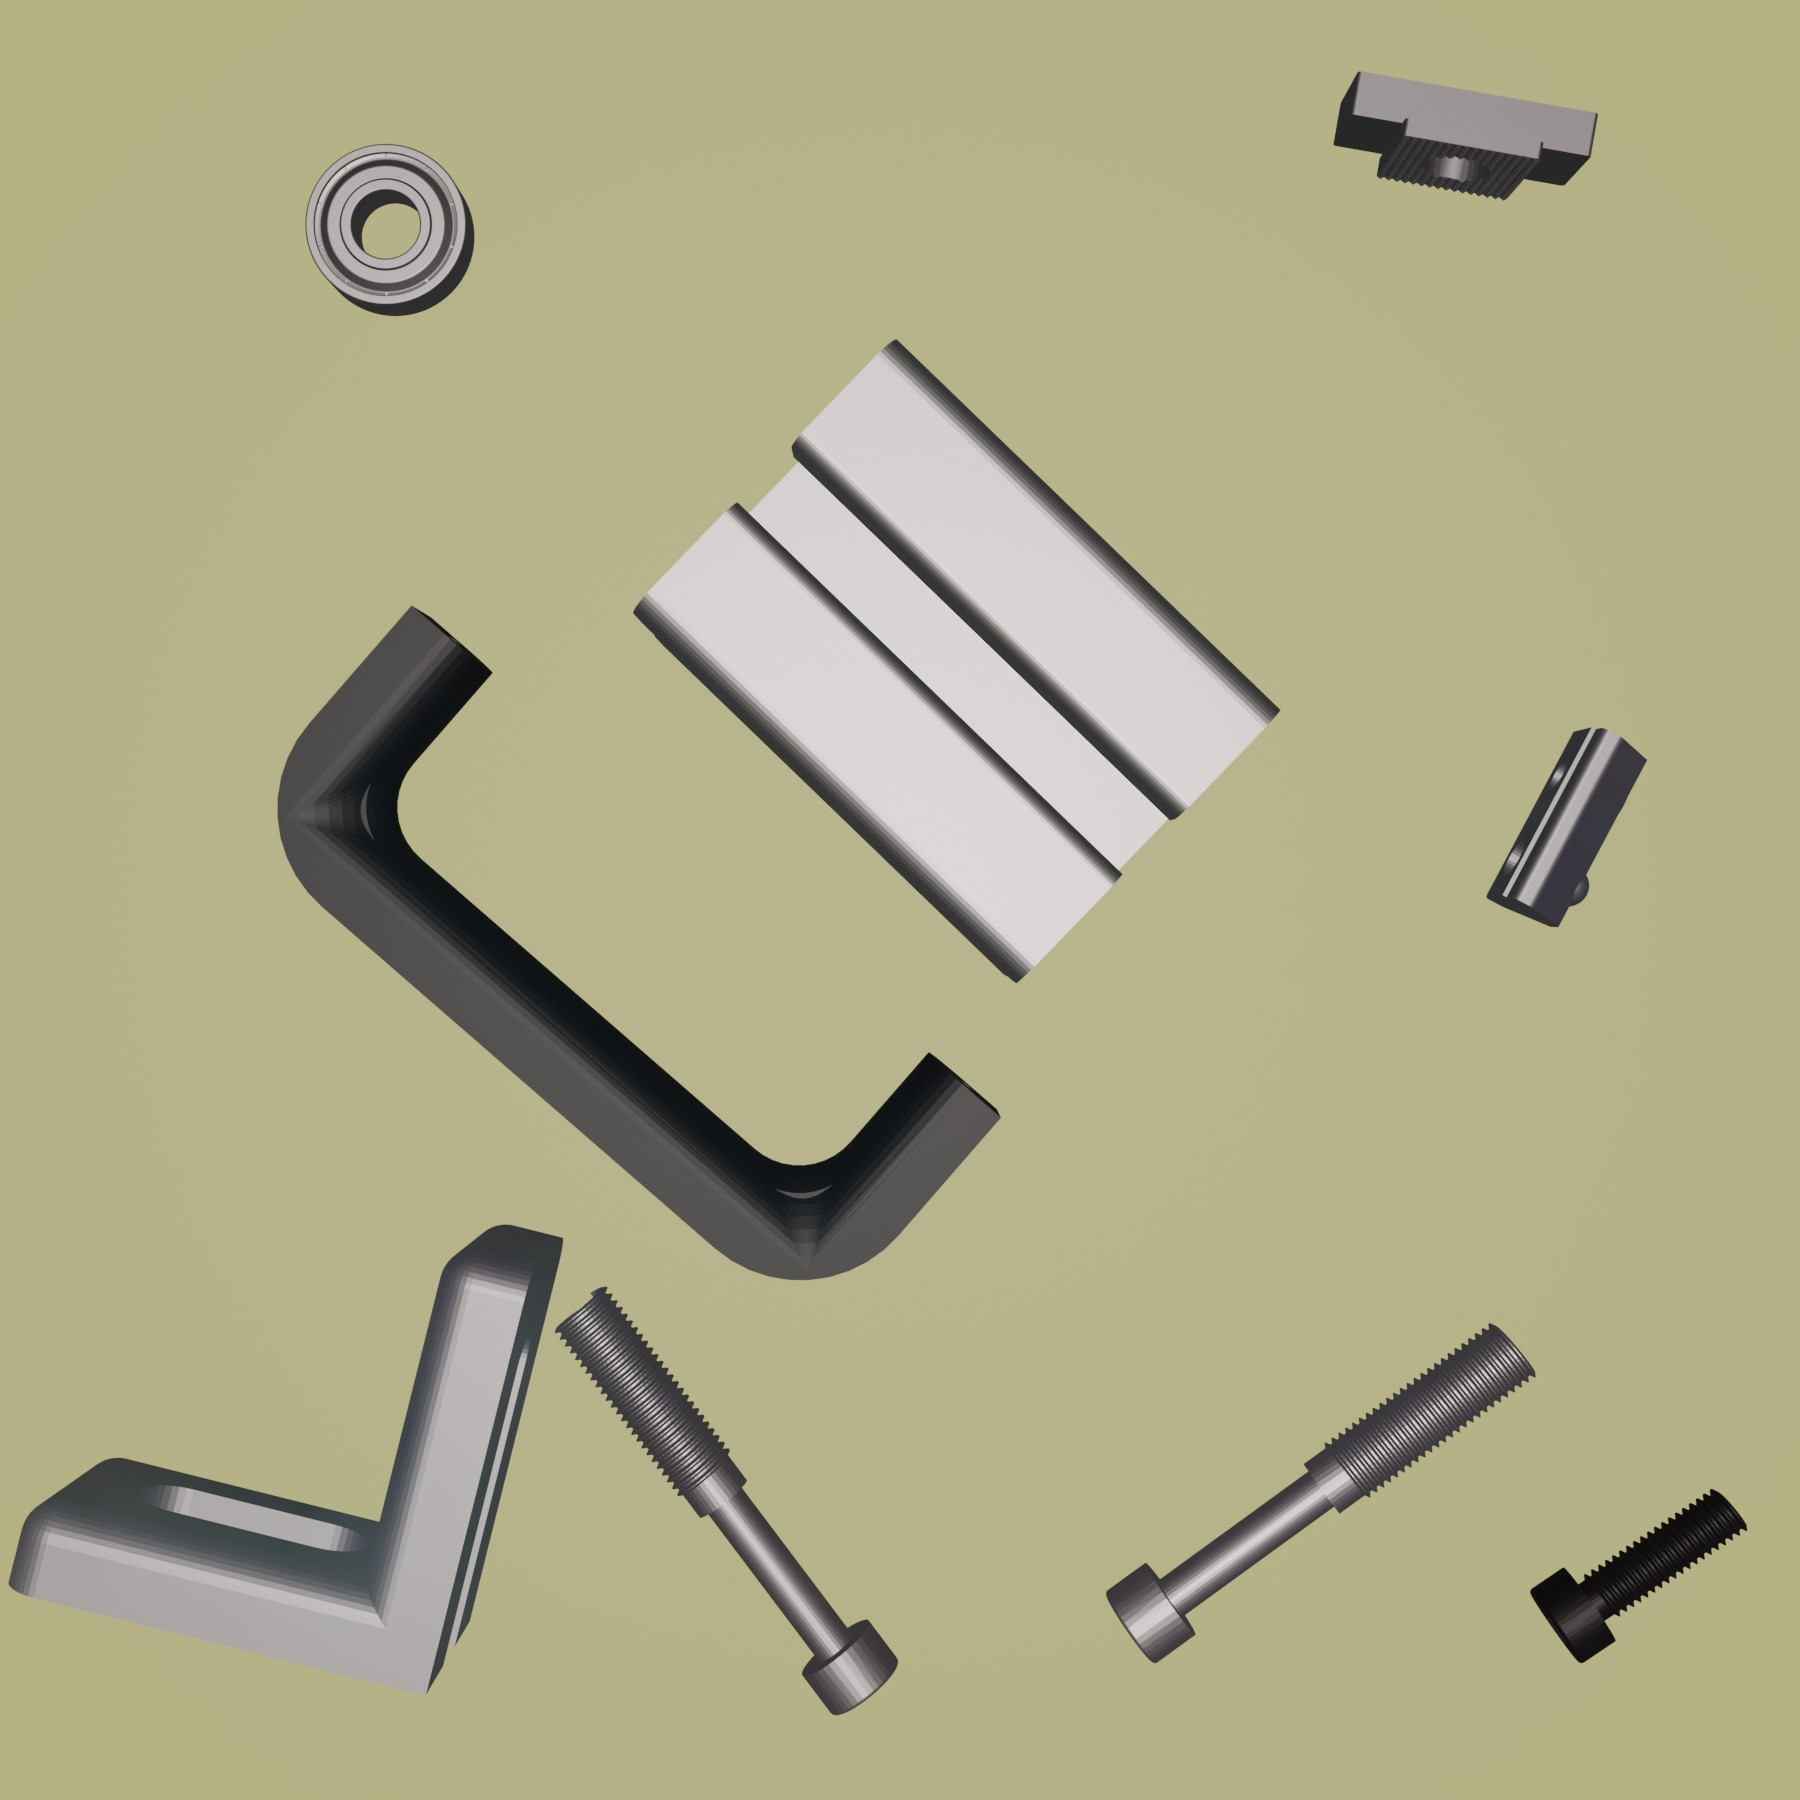Aluminium Extension: (630, 336, 1282, 986)
Ball Bearing: (303, 142, 475, 320)
Multiwinkel: (8, 1223, 567, 1695)
Pull Handle: (275, 603, 1002, 1281)
Shoulder Socket Head Cap Screw: (551, 1281, 900, 1718), (1104, 1322, 1538, 1663)
Socket Head Cap Screw: (1526, 1487, 1751, 1666)
T Nut Square: (1329, 69, 1601, 203)
T Spring Nut: (1487, 725, 1648, 930)
